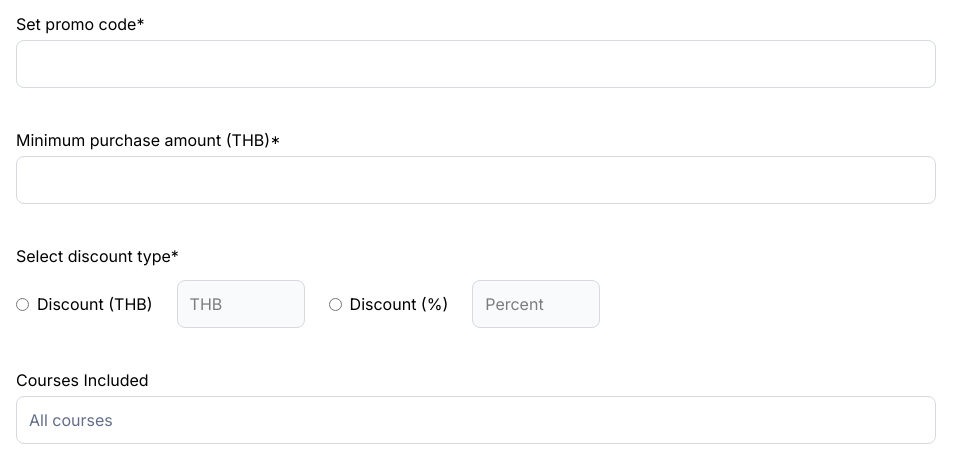
Test: PromoCodeForm › blocks special characters and spaces while typing the promo code
The image size is (953, 461).
Type "AB@ 12! cd" into the field labelled "Set promo code*".
click(476, 64); type("AB@ 12! cd")  # box [16, 40, 936, 88]
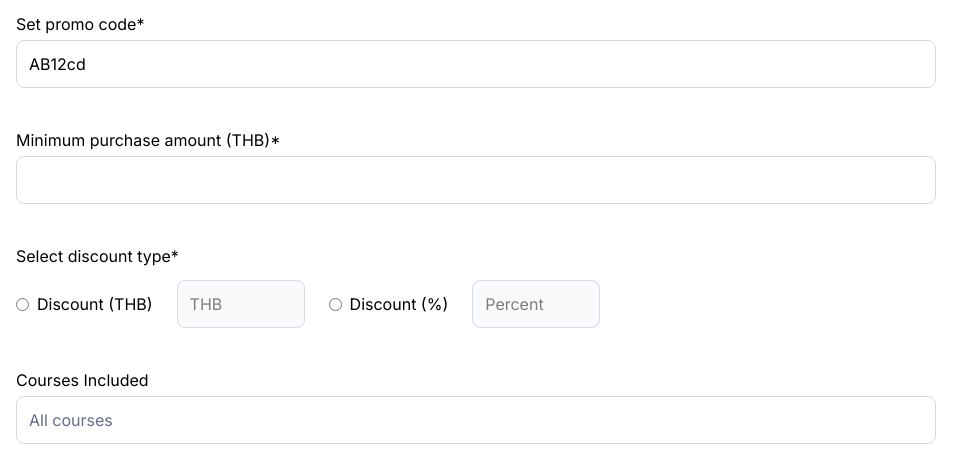
Check: the field labelled "Set promo code*" holds "AB12cd", box [16, 40, 936, 88]
